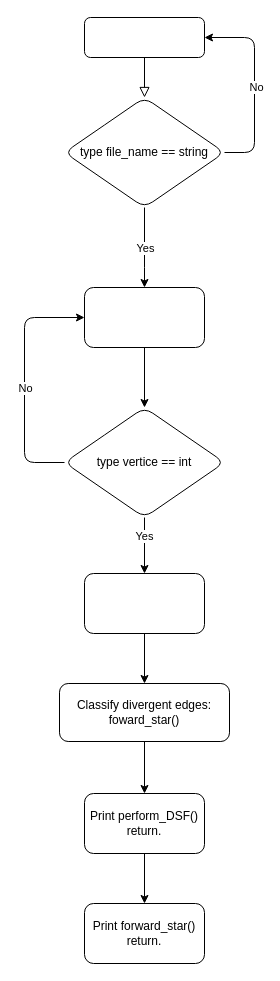
This 280x981 diagram has some shape labels left out. Here are the shapes that lost their labels. From the top down, the centre of each, then its label:
At (x=144, y=37): "[INPUT] Request file name".
At (x=144, y=317): "[INPUT] Request number of desired vertex".
At (x=144, y=603): "def perform_DFS()".
